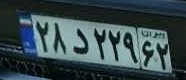character: (32, 17, 52, 54), (49, 19, 68, 56), (70, 25, 91, 58), (122, 29, 140, 66), (92, 24, 108, 61), (107, 26, 122, 64), (155, 40, 171, 72), (141, 37, 156, 70)
